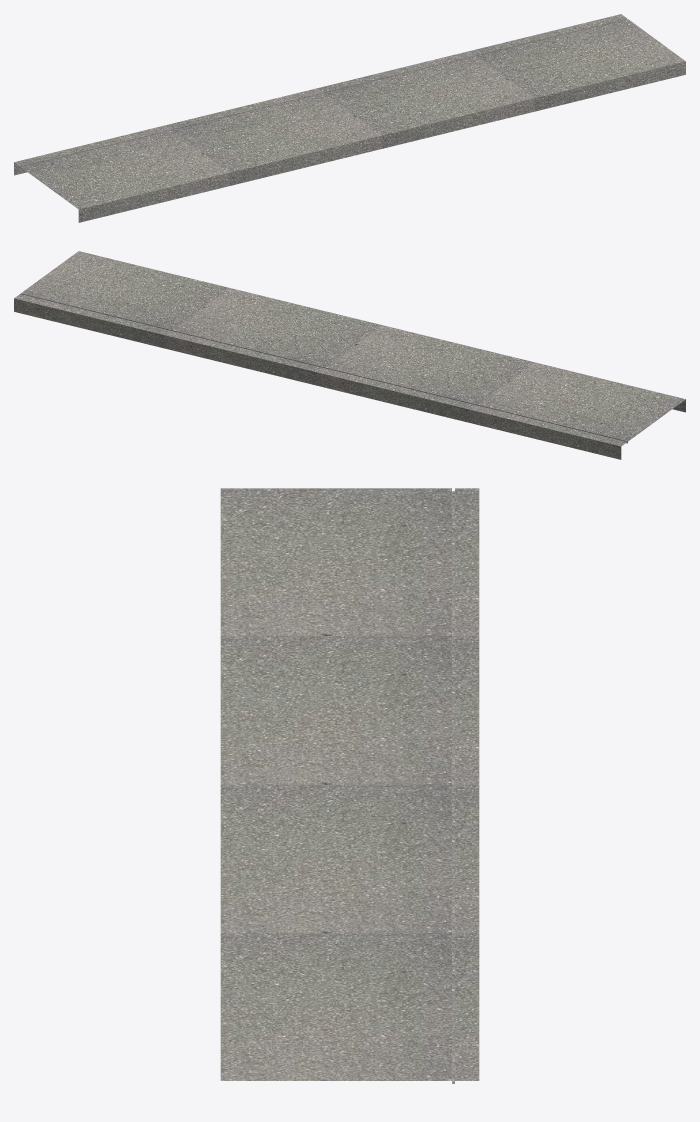
File: vereda.fbx
3 views of the same model, one above another, from view 1: azimuth 30°, elevation 25°; view 2: azimuth 150°, elevation 25°; view 3: azimuth 270°, elevation 25° (orthographic). The views are drawn at different scales.
Visible parts, largest first — view 1: pCube1; view 2: pCube1; view 3: pCube1.
Boxes of the visible parts, bbox=[...] form: pCube1: bbox=[14, 14, 685, 222]; pCube1: bbox=[14, 251, 685, 459]; pCube1: bbox=[220, 488, 479, 1083].
Bounding box in the file's own units: 26.17 × 0.5508 × 4.83.
